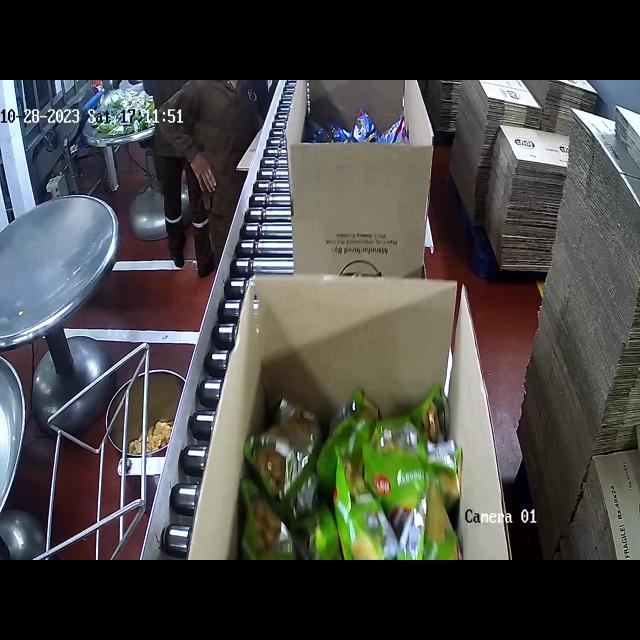paprika: (304, 113, 414, 141)
yogurt: (239, 384, 463, 558)
